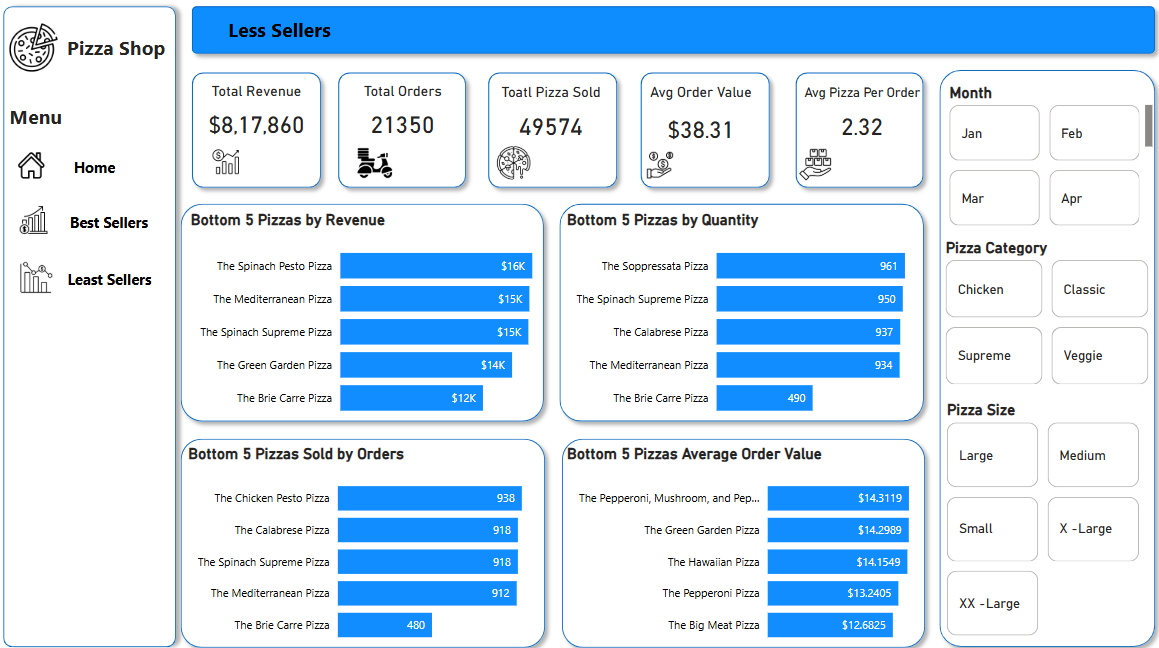

The dashboard page shown, as its layout file describes it:
{"tool":"powerbi","page":{"name":"Less Sellers","canvas":[1280,720],"ordinal":2},"visuals":[{"type":"shape","box":[207.1,0,1072.9,70],"z":0},{"type":"shape","box":[0,0,207.1,720],"z":1000},{"type":"shape","box":[194.9,473.4,417.2,247],"z":2000},{"type":"shape","box":[207.2,72.7,159.2,144.1],"z":3000},{"type":"shape","box":[194.9,216.8,415.8,256.6],"z":4000},{"type":"shape","box":[1025.7,70,254.3,650],"z":5000},{"type":"shape","box":[609.3,216.8,417.2,256.6],"z":6000},{"type":"shape","box":[612,473.4,415.8,247],"z":7000},{"type":"shape","box":[366.4,72.7,157.8,144.1],"z":8000},{"type":"shape","box":[531,72.7,159.2,144.1],"z":9000},{"type":"shape","box":[698.5,72.7,159.2,144.1],"z":10000},{"type":"shape","box":[868.6,72.7,157.8,144.1],"z":11000},{"type":"card","title":"Total Revenue","fields":{"Values":["pizza_sales.Total Revenue"]},"box":[207.2,93.3,159.2,76.8],"z":12000},{"type":"textbox","box":[142.9,15.7,338.6,50],"z":13000},{"type":"image","box":[219.6,160.5,67.2,38.4],"z":14000},{"type":"card","title":"Total Orders","fields":{"Values":["pizza_sales.Total Orders"]},"box":[377.4,93.3,137.2,76.8],"z":15000},{"type":"card","title":"Toatl Pizza Sold","fields":{"Values":["pizza_sales.Total Pizzas Sold"]},"box":[509.1,94.7,199,79.6],"z":16000},{"type":"card","title":"Avg Order Value","fields":{"Values":["pizza_sales.Average Order Value"]},"box":[698.5,94.7,149.6,85.1],"z":17000},{"type":"card","title":"Avg Pizza Per Order","fields":{"Values":["pizza_sales.Avg Pizzas Per Order"]},"box":[874.1,94.7,152.3,79.6],"z":18000},{"type":"image","box":[874.1,160.5,49.4,45.3],"z":19000},{"type":"image","box":[708.1,160.5,41.2,45.3],"z":20000},{"type":"image","box":[388.3,152.3,54.9,57.6],"z":21000},{"type":"image","box":[544.8,157.8,46.7,46.7],"z":22000},{"type":"image","box":[11.4,15.7,62.9,78.6],"z":23000},{"type":"image","box":[20,160,38.6,45.7],"z":24000},{"type":"image","box":[15.7,222.9,54.3,40],"z":25000},{"type":"image","box":[20,278.6,50,55.7],"z":26000},{"type":"advancedSlicerVisual","title":"Pizza Category","fields":{"Values":["pizza_sales.pizza_category"]},"box":[1037.1,262.9,232.9,165.7],"z":27000},{"type":"advancedSlicerVisual","title":"Pizza Size","fields":{"Values":["pizza_sales.Pizza Size Full"]},"box":[1038.6,441.4,220,264.3],"z":28000},{"type":"actionButton","title":"HOME","box":[74.3,217.1,101.4,55.7],"z":29000},{"type":"textbox","box":[74.3,34.3,135.7,42.9],"z":30000},{"type":"textbox","box":[11.4,110,94.3,42.9],"z":31000},{"type":"actionButton","box":[75.7,287.1,100,40],"z":32000},{"type":"actionButton","box":[58.6,164.3,100,40],"z":33000},{"type":"barChart","title":"Bottom 5 Pizzas by Revenue","fields":{"Category":["pizza_sales.pizza_name"],"Y":["pizza_sales.Total Revenue"]},"box":[210,232.9,430,240],"z":34000},{"type":"barChart","title":"Bottom 5 Pizzas by Quantity","fields":{"Category":["pizza_sales.pizza_name"],"Y":["pizza_sales.Total Pizzas Sold"]},"box":[621.4,232.9,405.7,240],"z":35000},{"type":"barChart","title":"Bottom 5 Pizzas Sold by Orders","fields":{"Category":["pizza_sales.pizza_name"],"Y":["pizza_sales.Total Orders"]},"box":[207.1,488.6,401.4,231.4],"z":36000},{"type":"barChart","title":"Bottom 5 Pizzas Average Order Value","fields":{"Category":["pizza_sales.pizza_name"],"Y":["pizza_sales.Average Order Value"]},"box":[621.4,488.6,430,231.4],"z":37000},{"type":"advancedSlicerVisual","title":"Month","fields":{"Values":["pizza_sales.Month_Short"]},"box":[1040,92.9,232.9,162.9],"z":38000}]}

Visuals, with their boxes on the page's 1280x720 design canvas (x1, y1, x2, y2). These are canvas units, not pixel positions in the 1159x648 screenshot, which may show the page scaled, cropped or inside an application window:
shape: 207/0/1280/70
shape: 0/0/207/720
shape: 195/473/612/720
shape: 207/73/366/217
shape: 195/217/611/473
shape: 1026/70/1280/720
shape: 609/217/1026/473
shape: 612/473/1028/720
shape: 366/73/524/217
shape: 531/73/690/217
shape: 698/73/858/217
shape: 869/73/1026/217
"Total Revenue" card: 207/93/366/170
textbox: 143/16/482/66
image: 220/160/287/199
"Total Orders" card: 377/93/515/170
"Toatl Pizza Sold" card: 509/95/708/174
"Avg Order Value" card: 698/95/848/180
"Avg Pizza Per Order" card: 874/95/1026/174
image: 874/160/924/206
image: 708/160/749/206
image: 388/152/443/210
image: 545/158/592/204
image: 11/16/74/94
image: 20/160/59/206
image: 16/223/70/263
image: 20/279/70/334
"Pizza Category" advancedSlicerVisual: 1037/263/1270/429
"Pizza Size" advancedSlicerVisual: 1039/441/1259/706
"HOME" actionButton: 74/217/176/273
textbox: 74/34/210/77
textbox: 11/110/106/153
actionButton: 76/287/176/327
actionButton: 59/164/159/204
"Bottom 5 Pizzas by Revenue" barChart: 210/233/640/473
"Bottom 5 Pizzas by Quantity" barChart: 621/233/1027/473
"Bottom 5 Pizzas Sold by Orders" barChart: 207/489/608/720
"Bottom 5 Pizzas Average Order Value" barChart: 621/489/1051/720
"Month" advancedSlicerVisual: 1040/93/1273/256
